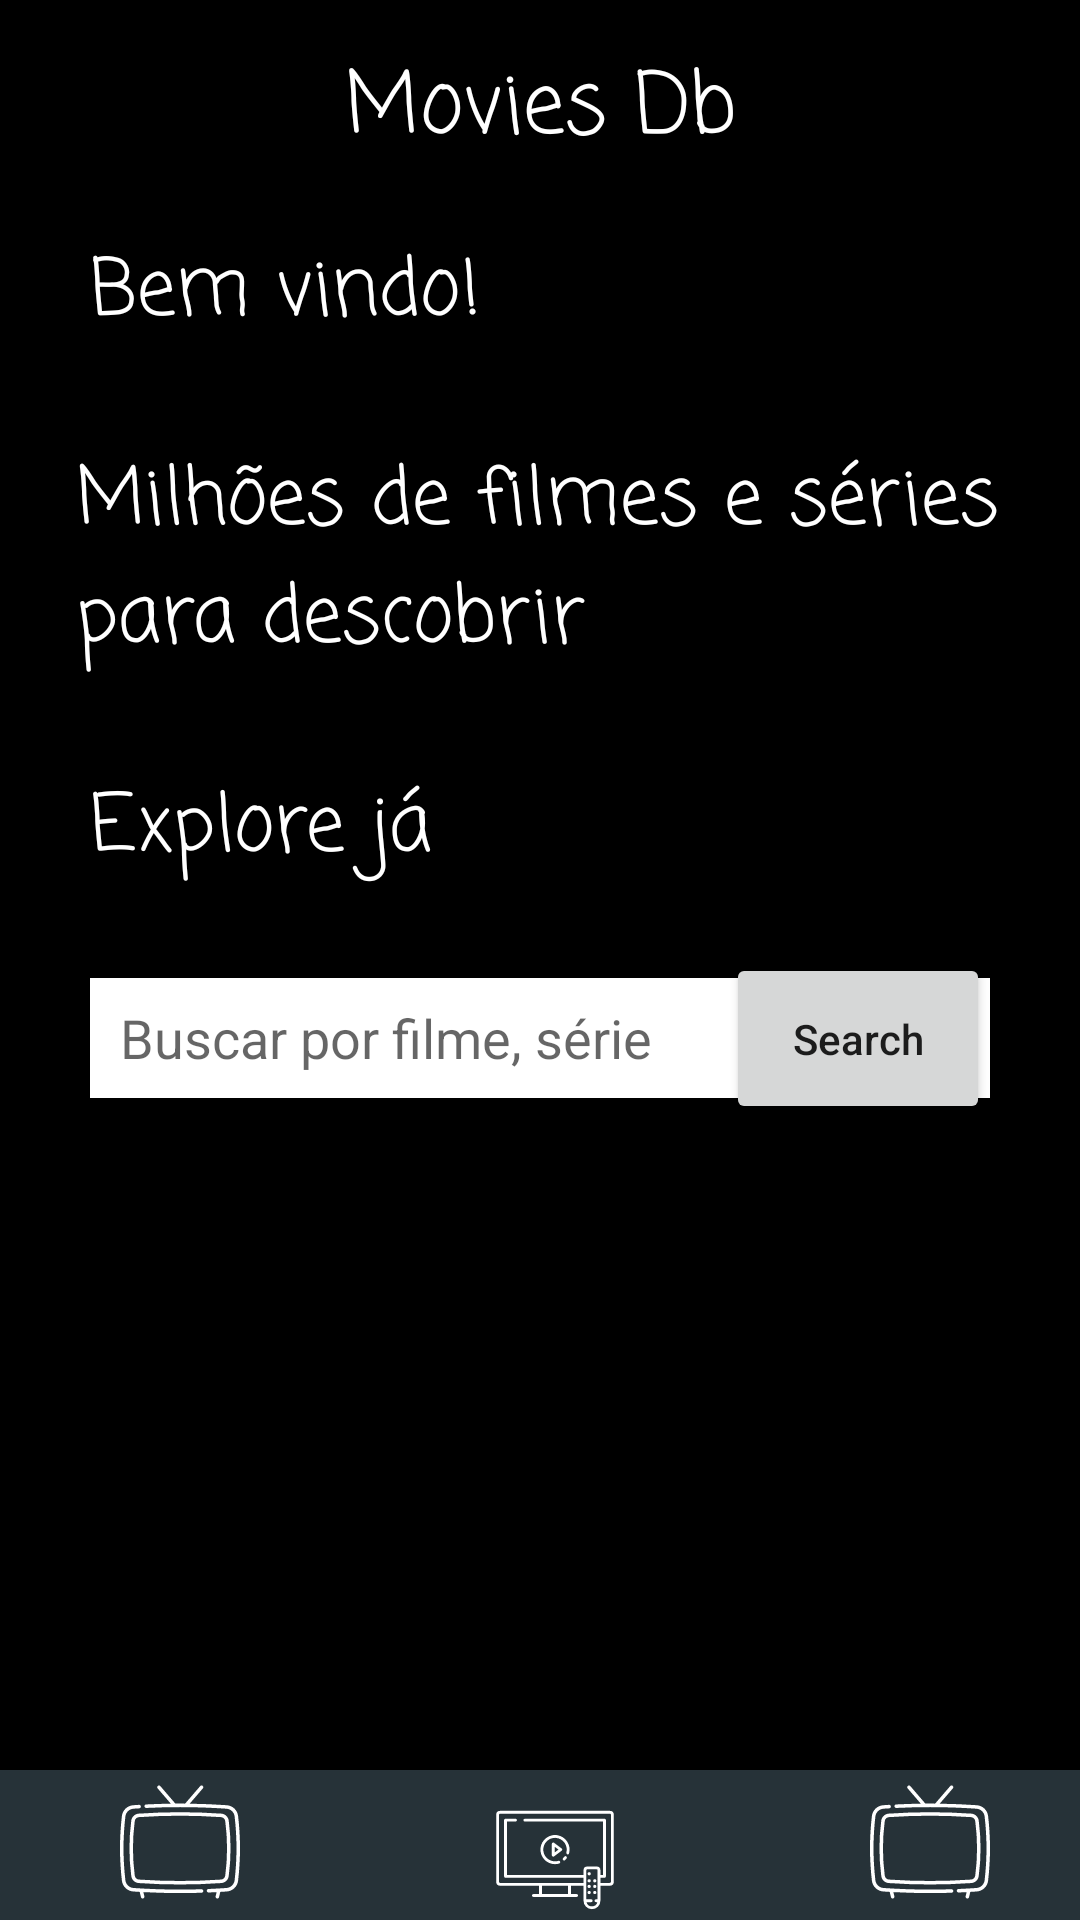

Icons on this 1080px×1920px Android screen, each with its box as (x1, y1, x2, y2):
tv monitor: (496, 1810, 614, 1909)
tv screen: (120, 1785, 240, 1899), (870, 1785, 990, 1899)
